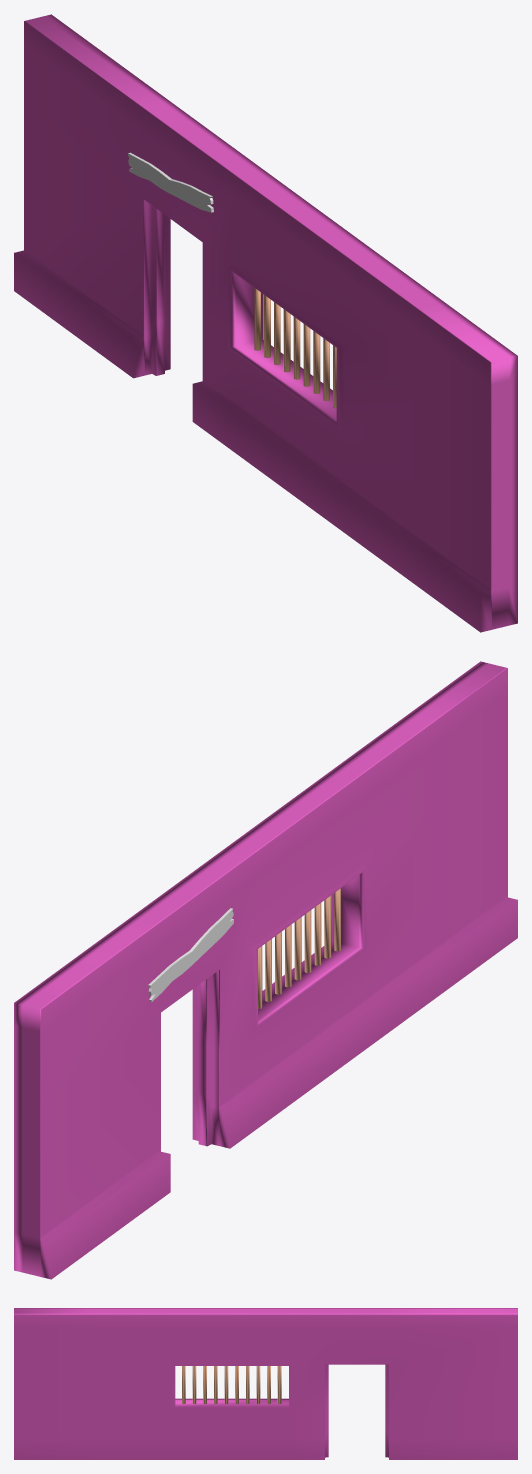
Rendered from mur_fond.fbx.
The picture shows the model from 3 angles, top to bottom: view 1: azimuth 30°, elevation 25°; view 2: azimuth 150°, elevation 25°; view 3: azimuth 270°, elevation 25°; orthographic projection. The views are drawn at different scales.
Visible parts, largest first — view 1: Cube.027; view 2: Cube.027; view 3: Cube.027.
Boxes of the visible parts, x1,y1,x2,y2 form: Cube.027: (14, 14, 517, 632); Cube.027: (14, 661, 517, 1279); Cube.027: (14, 1308, 517, 1459).
Size of the model in its own units: 703 by 4804 by 15186.
